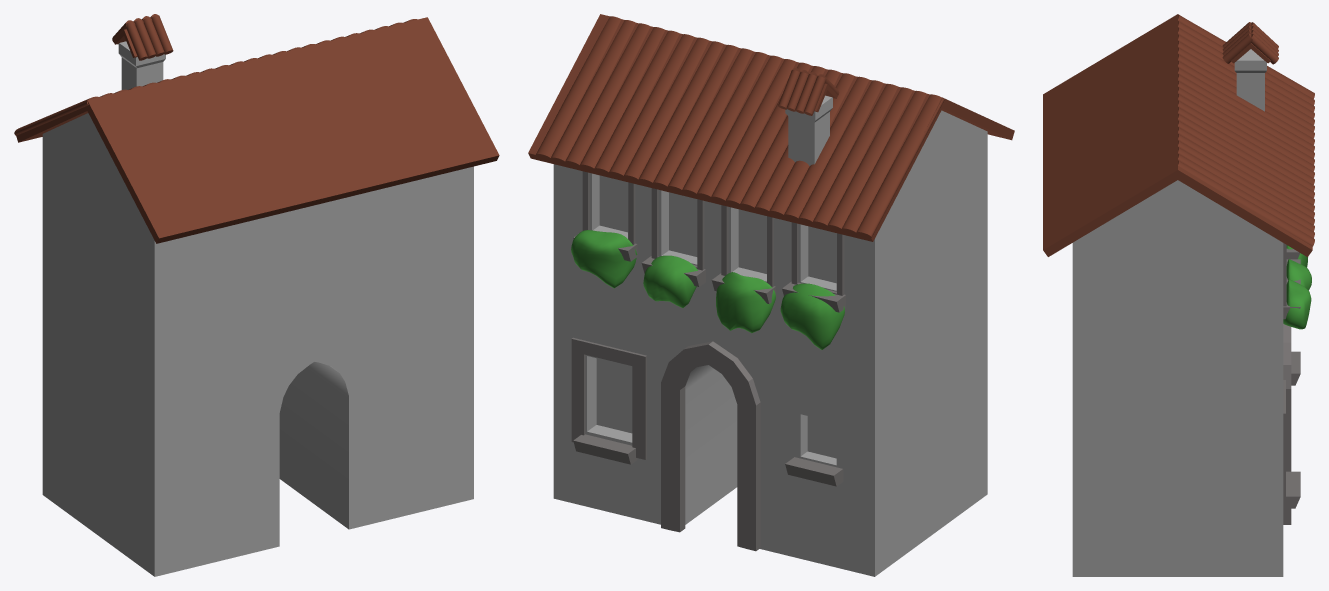
File: TM_BridgeHouse_01.fbx
The picture shows the model from 3 angles, left to right: view 1: azimuth 30°, elevation 25°; view 2: azimuth 150°, elevation 25°; view 3: azimuth 270°, elevation 25°; orthographic projection. The views are drawn at different scales.
Visible parts, largest first — view 1: polySurface14; view 2: polySurface14; view 3: polySurface14.
Boxes of the visible parts, left/top/right/bottom form: polySurface14: left=14, top=14, right=499, bottom=576; polySurface14: left=528, top=14, right=1014, bottom=576; polySurface14: left=1043, top=14, right=1314, bottom=576.
Bounding box in the file's own units: 1603 × 2105 × 1178.
